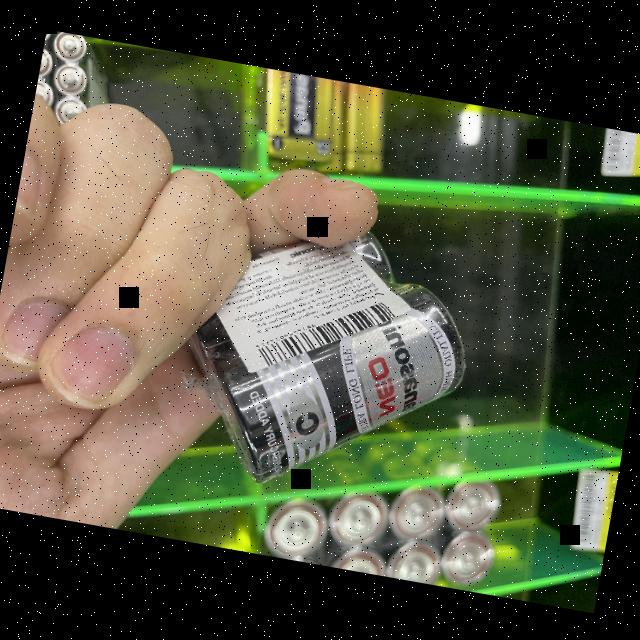battery: (213, 255, 472, 505), (176, 198, 394, 394)
